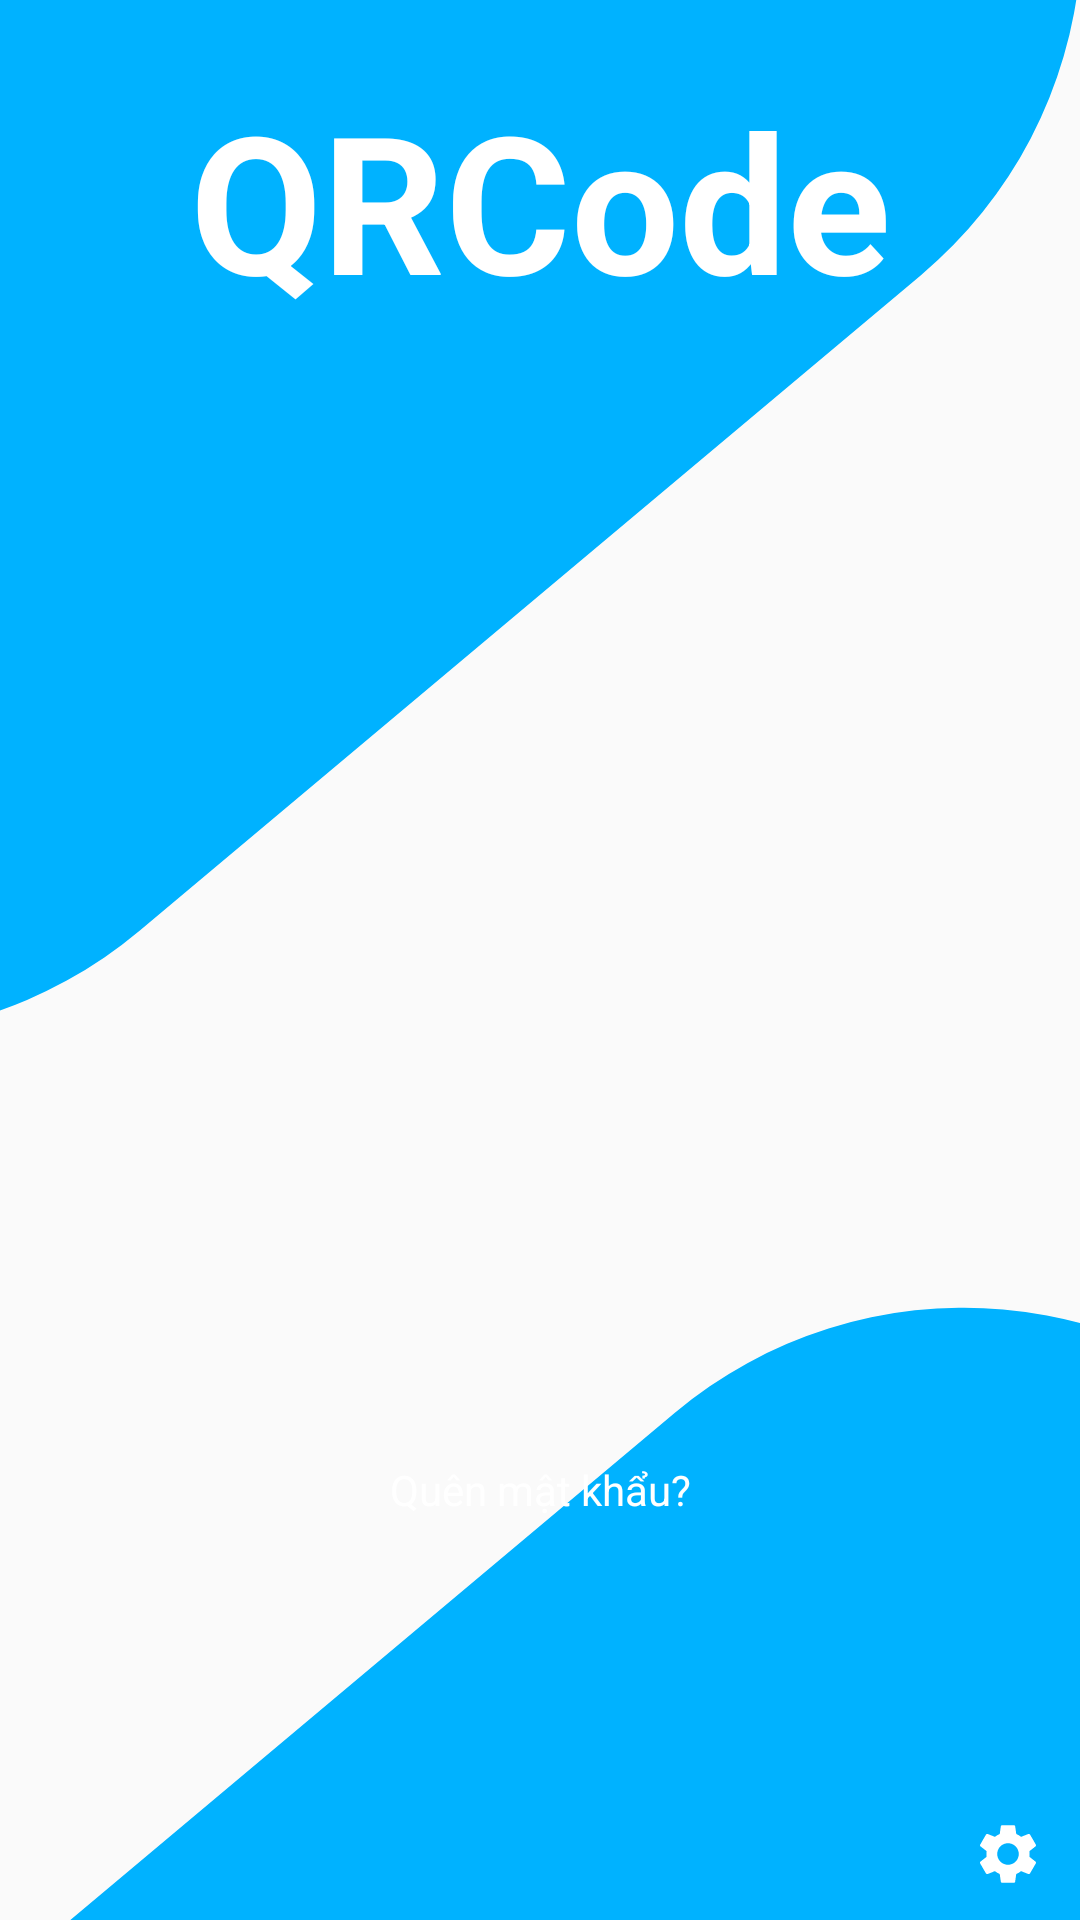

Icons on this 1080*1920 Android screen, each with its box as bbox=[x1, y1, x2, y2]:
settings: bbox=[980, 1825, 1036, 1883]
